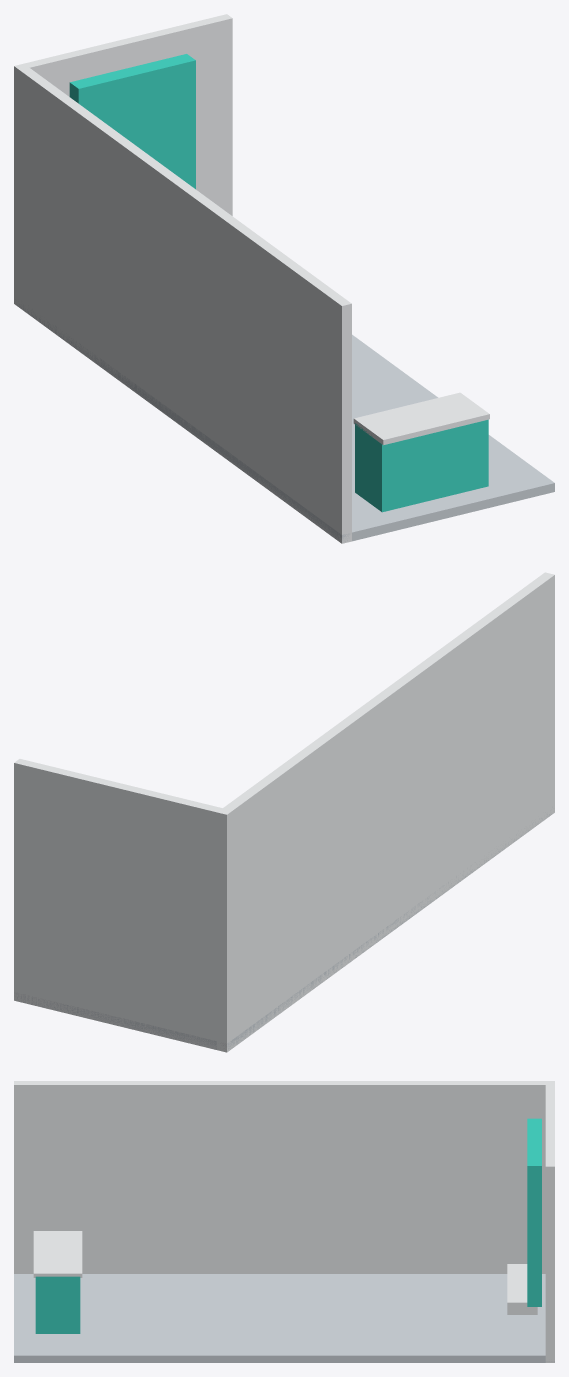
The picture shows the model from 3 angles, top to bottom: view 1: azimuth 30°, elevation 25°; view 2: azimuth 150°, elevation 25°; view 3: azimuth 270°, elevation 25°; orthographic projection. The views are drawn at different scales.
Visible parts, largest first — view 1: Exhibition Booth Concept; view 2: Exhibition Booth Concept; view 3: Exhibition Booth Concept.
Boxes of the visible parts, x1,y1,x2,y2 form: Exhibition Booth Concept: (14,14,554,543); Exhibition Booth Concept: (14,572,554,1052); Exhibition Booth Concept: (14,1081,554,1362).
Bounding box in the file's own units: 3 × 3.2 × 8.
